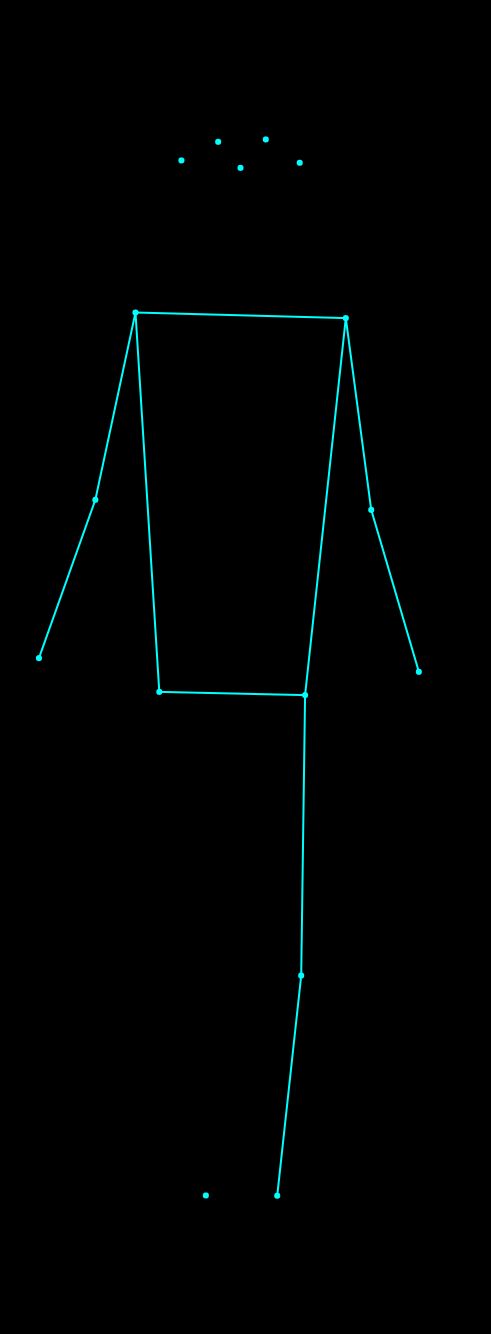mountain: (32, 124, 434, 1209)
